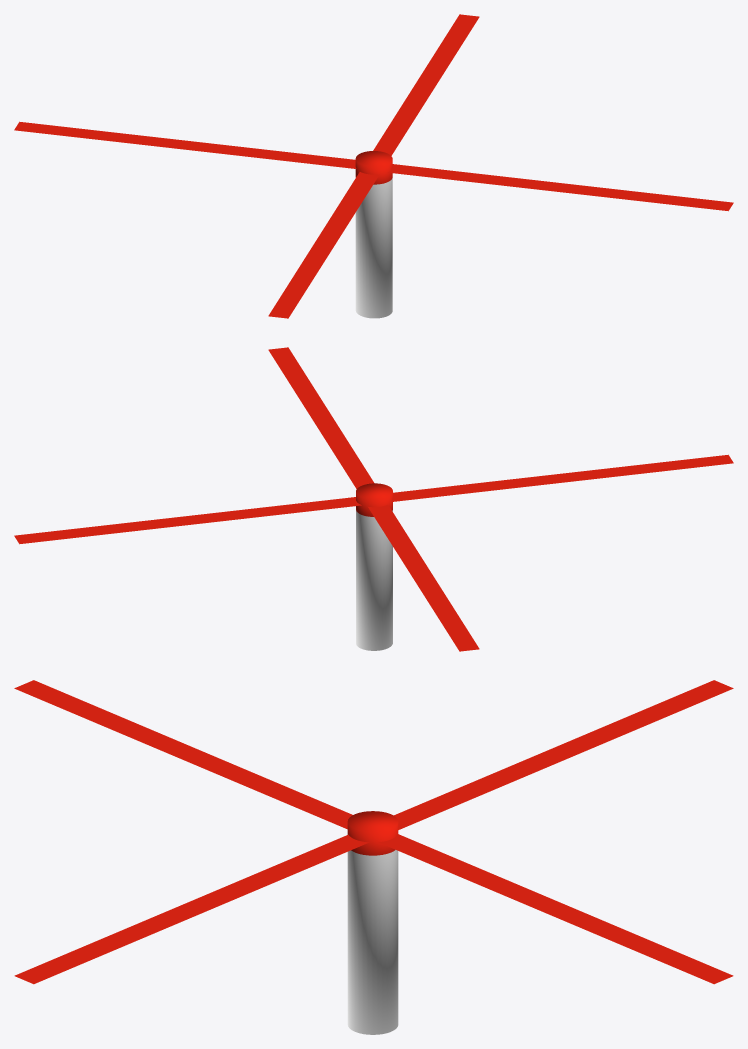
Rendered from scene_wings.glb.
3 renders of one model, top to bottom at view 1: azimuth 30°, elevation 25°; view 2: azimuth 150°, elevation 25°; view 3: azimuth 270°, elevation 25°, orthographic. The views are drawn at different scales.
Visible parts, largest first — view 1: Cube.001; view 2: Cube.001; view 3: Cube.001.
Part boxes in pixels (bbox=[...]): Cube.001: bbox=[14, 14, 733, 318]; Cube.001: bbox=[14, 347, 733, 651]; Cube.001: bbox=[14, 680, 733, 1034].
Size of the model in its own units: 10.22 by 3.18 by 10.22.
1 material, 1 textured.
